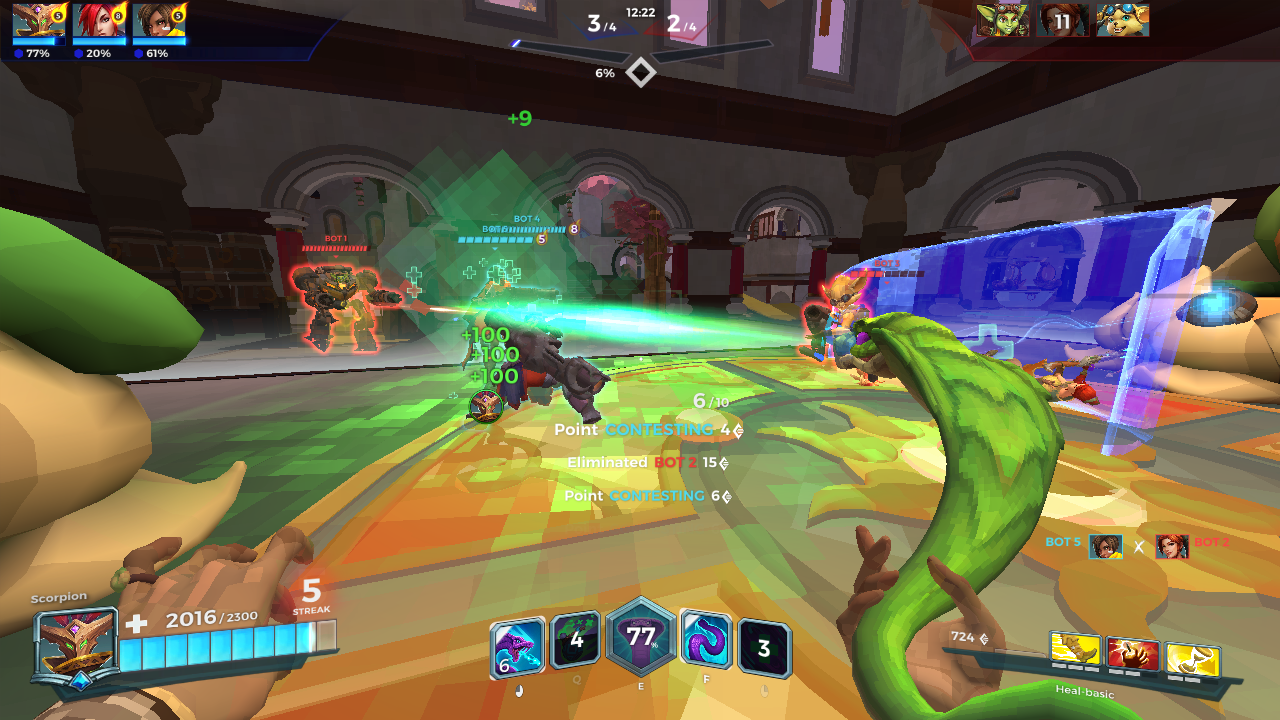model: (281, 256, 390, 358), (797, 269, 868, 378)
